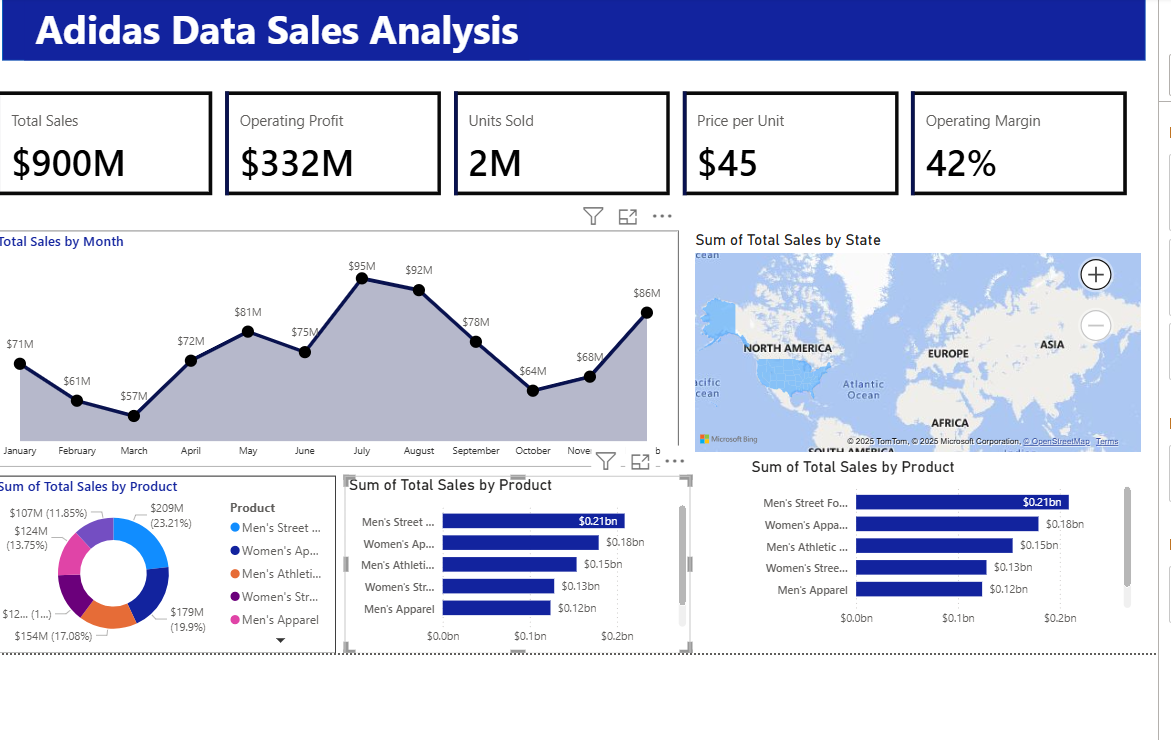

This screenshot's page, from the dashboard's own definition file:
{"tool":"powerbi","page":{"name":"Page 1","canvas":[1280,720],"ordinal":0},"visuals":[{"type":"shape","box":[11,0,1255.6,70],"z":0},{"type":"textbox","box":[35.7,0,554.4,70],"z":1000},{"type":"cardVisual","fields":{"Data":["Sum(Data Sales Adidas.Total Sales)","Sum(Data Sales Adidas.Operating Profit)","Sum(Data Sales Adidas.Units Sold)","Avg(Data Sales Adidas.Price per Unit)","Avg(Data Sales Adidas.Operating Margin)"]},"box":[0,98.8,1255.6,124.9],"z":2000},{"type":"areaChart","title":"Total Sales by Month","fields":{"Category":["Data Sales Adidas.Invoice Date.Variation.Date Hierarchy.Month"],"Y":["Sum(Data Sales Adidas.Total Sales)"]},"box":[0,256.6,753.3,259.3],"z":3000},{"type":"map","fields":{"Category":["Data Sales Adidas.State"],"Size":["Sum(Data Sales Adidas.Total Sales)"]},"box":[767.1,256.6,499.5,259.3],"z":4000},{"type":"donutChart","fields":{"Category":["Data Sales Adidas.Product"],"Y":["Sum(Data Sales Adidas.Total Sales)"]},"box":[0,525.6,377.4,194.9],"z":5000},{"type":"barChart","fields":{"Category":["Data Sales Adidas.Product"],"Y":["Sum(Data Sales Adidas.Total Sales)"]},"box":[387,525.6,380.1,194.9],"z":6000},{"type":"barChart","fields":{"Category":["Data Sales Adidas.Product"],"Y":["Sum(Data Sales Adidas.Total Sales)"]},"box":[828.8,505,426.8,194.9],"z":7000}]}

Visuals, with their boxes on the page's 1280x720 design canvas (x1, y1, x2, y2). These are canvas units, not pixel positions in the 1171x740 screenshot, which may show the page scaled, cropped or inside an application window:
shape: 11,0,1267,70
textbox: 36,0,590,70
cardVisual - Sum(Data Sales Adidas.Total Sales) x Sum(Data Sales Adidas.Operating Profit): 0,99,1256,224
"Total Sales by Month" areaChart: 0,257,753,516
map - Data Sales Adidas.State x Sum(Data Sales Adidas.Total Sales): 767,257,1267,516
donutChart - Data Sales Adidas.Product x Sum(Data Sales Adidas.Total Sales): 0,526,377,720
barChart - Data Sales Adidas.Product x Sum(Data Sales Adidas.Total Sales): 387,526,767,720
barChart - Data Sales Adidas.Product x Sum(Data Sales Adidas.Total Sales): 829,505,1256,700
